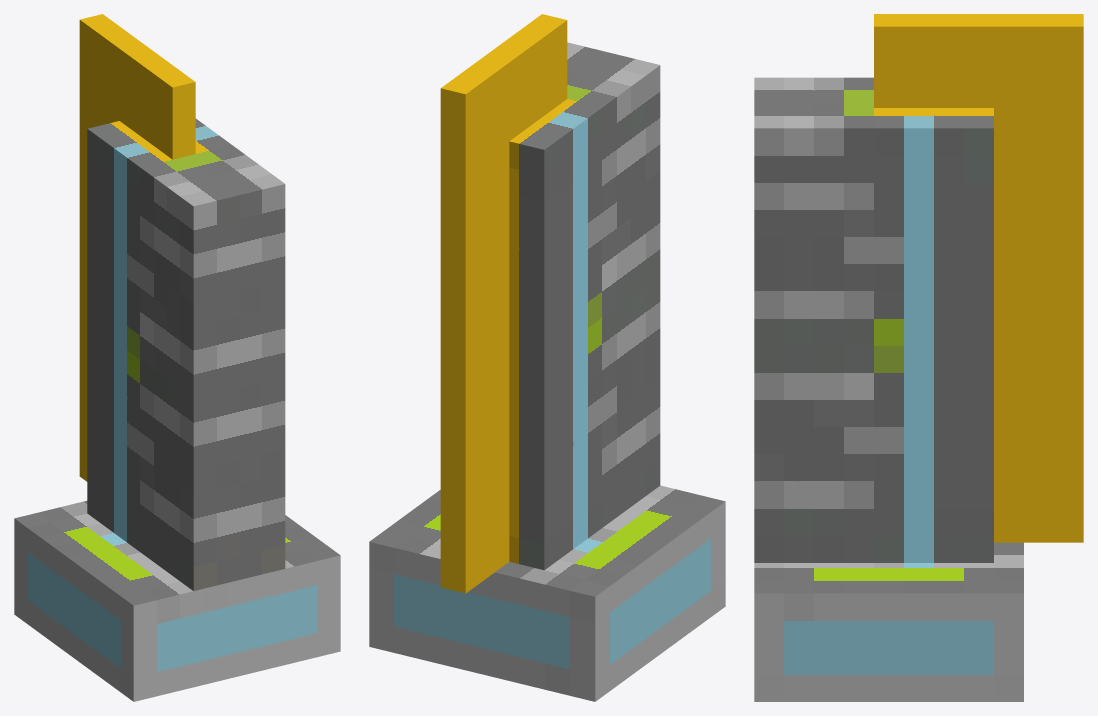
The model's file is alpha-horn.gltf.
3 views of the same model, side by side, from view 1: azimuth 30°, elevation 25°; view 2: azimuth 150°, elevation 25°; view 3: azimuth 270°, elevation 25° (orthographic). The views are drawn at different scales.
Parts seen in each view (by area): view 1: cube (×3); view 2: cube (×3); view 3: cube (×3).
Boxes of the visible parts, bbox=[...] form: cube (×3): bbox=[14, 14, 340, 701]; cube (×3): bbox=[369, 14, 725, 701]; cube (×3): bbox=[754, 14, 1083, 701].
Size of the model in its own units: 0.0176 by 0.0449 by 0.0215.
Materials: 3 (3 with a texture image).
